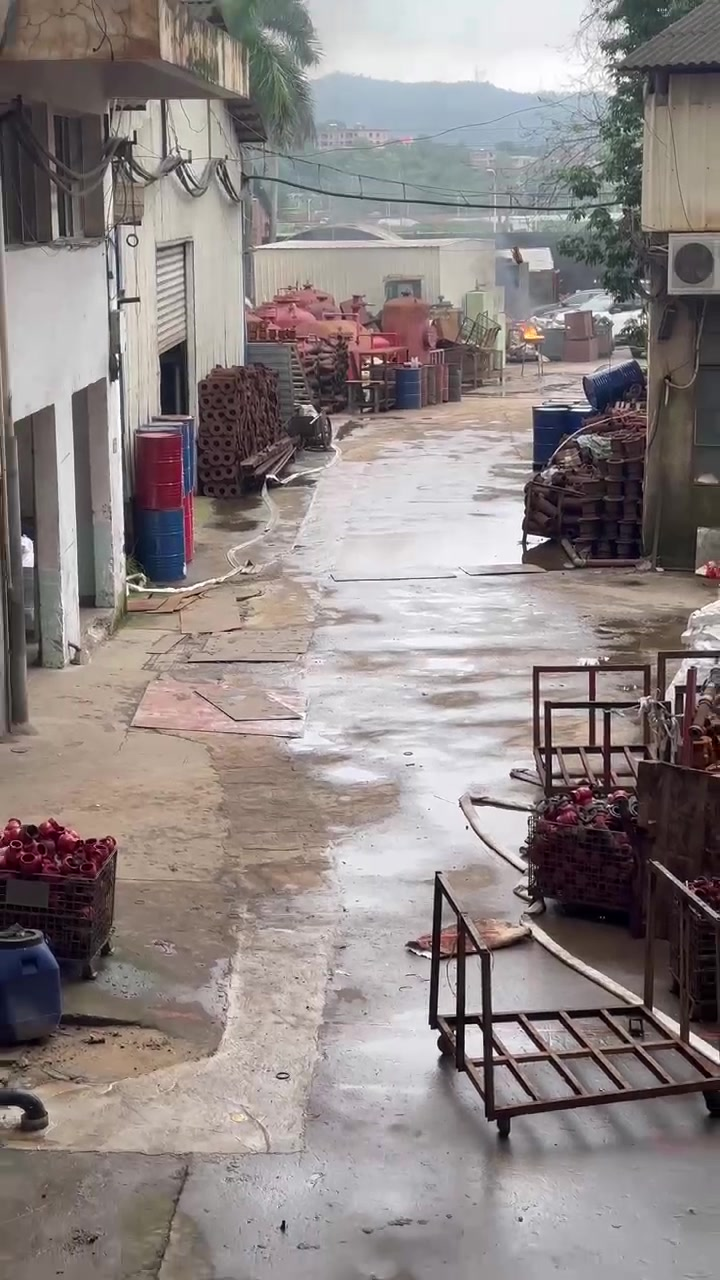fire: (519, 323, 543, 337)
